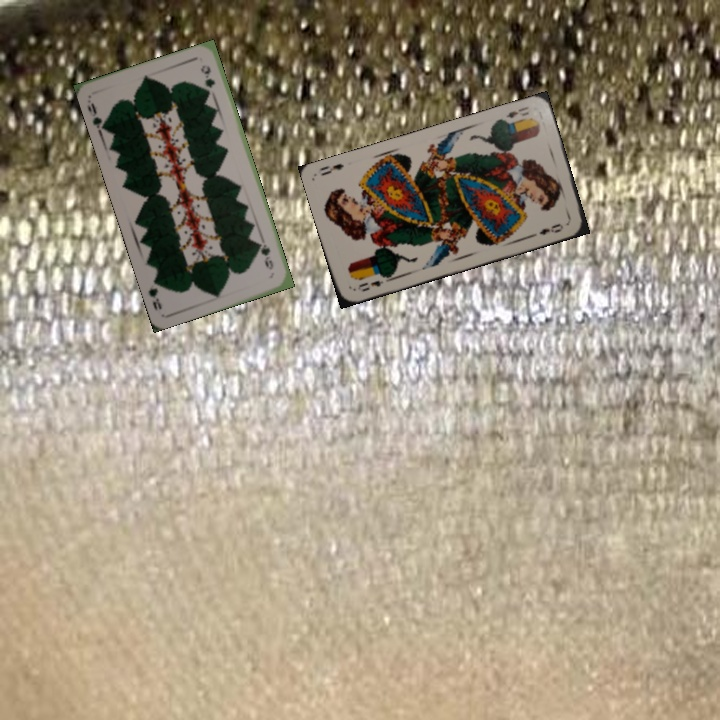EO: (353, 271, 389, 294), (502, 102, 532, 121)
G9: (83, 99, 109, 135), (255, 238, 276, 272)
